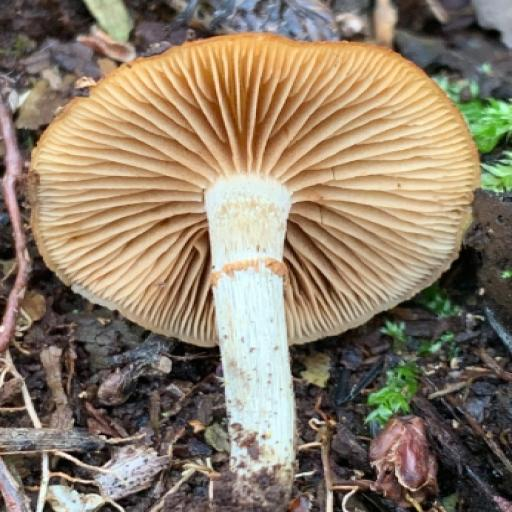mushroom: (21, 25, 489, 428)
